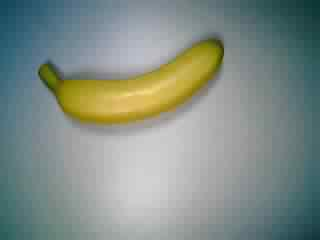banana: (34, 34, 234, 135)
